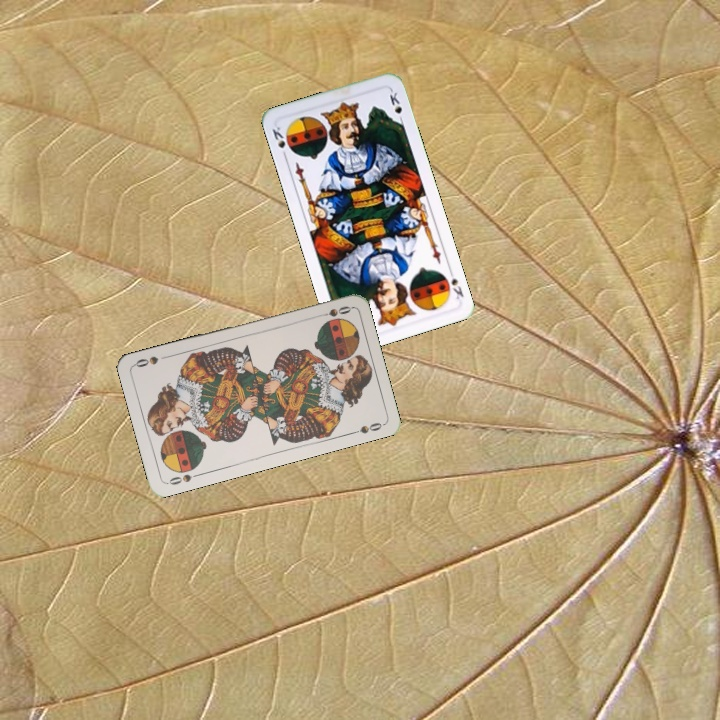SK: (268, 122, 289, 161), (445, 265, 466, 303)
SO: (313, 302, 354, 320), (163, 469, 203, 487)
